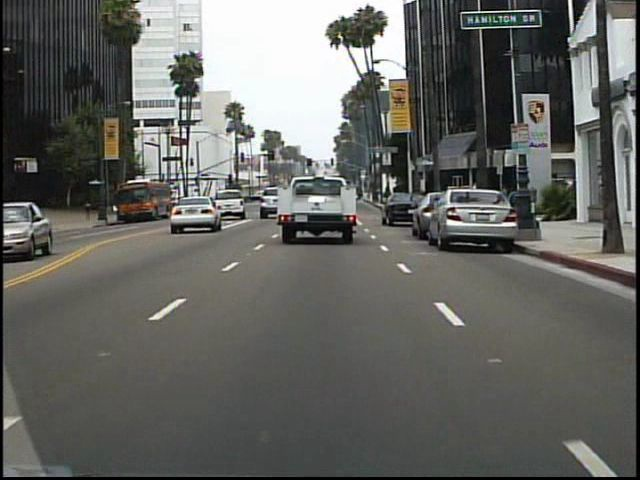person: (83, 198, 95, 225)
